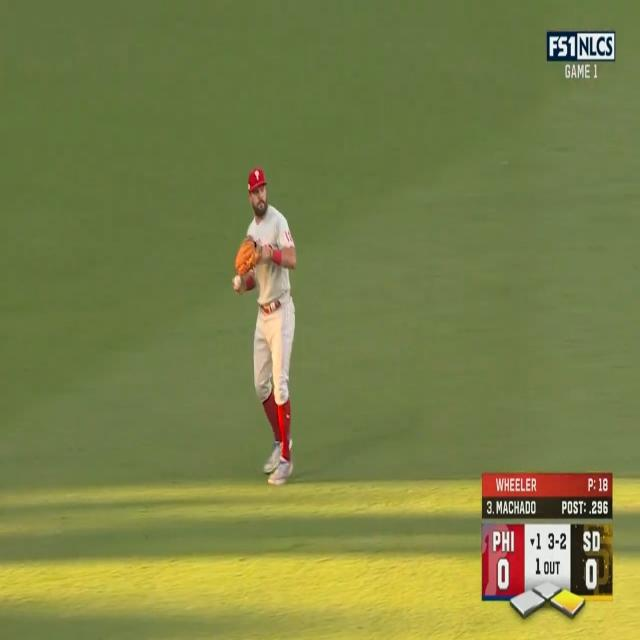baseball: (234, 275, 241, 288)
